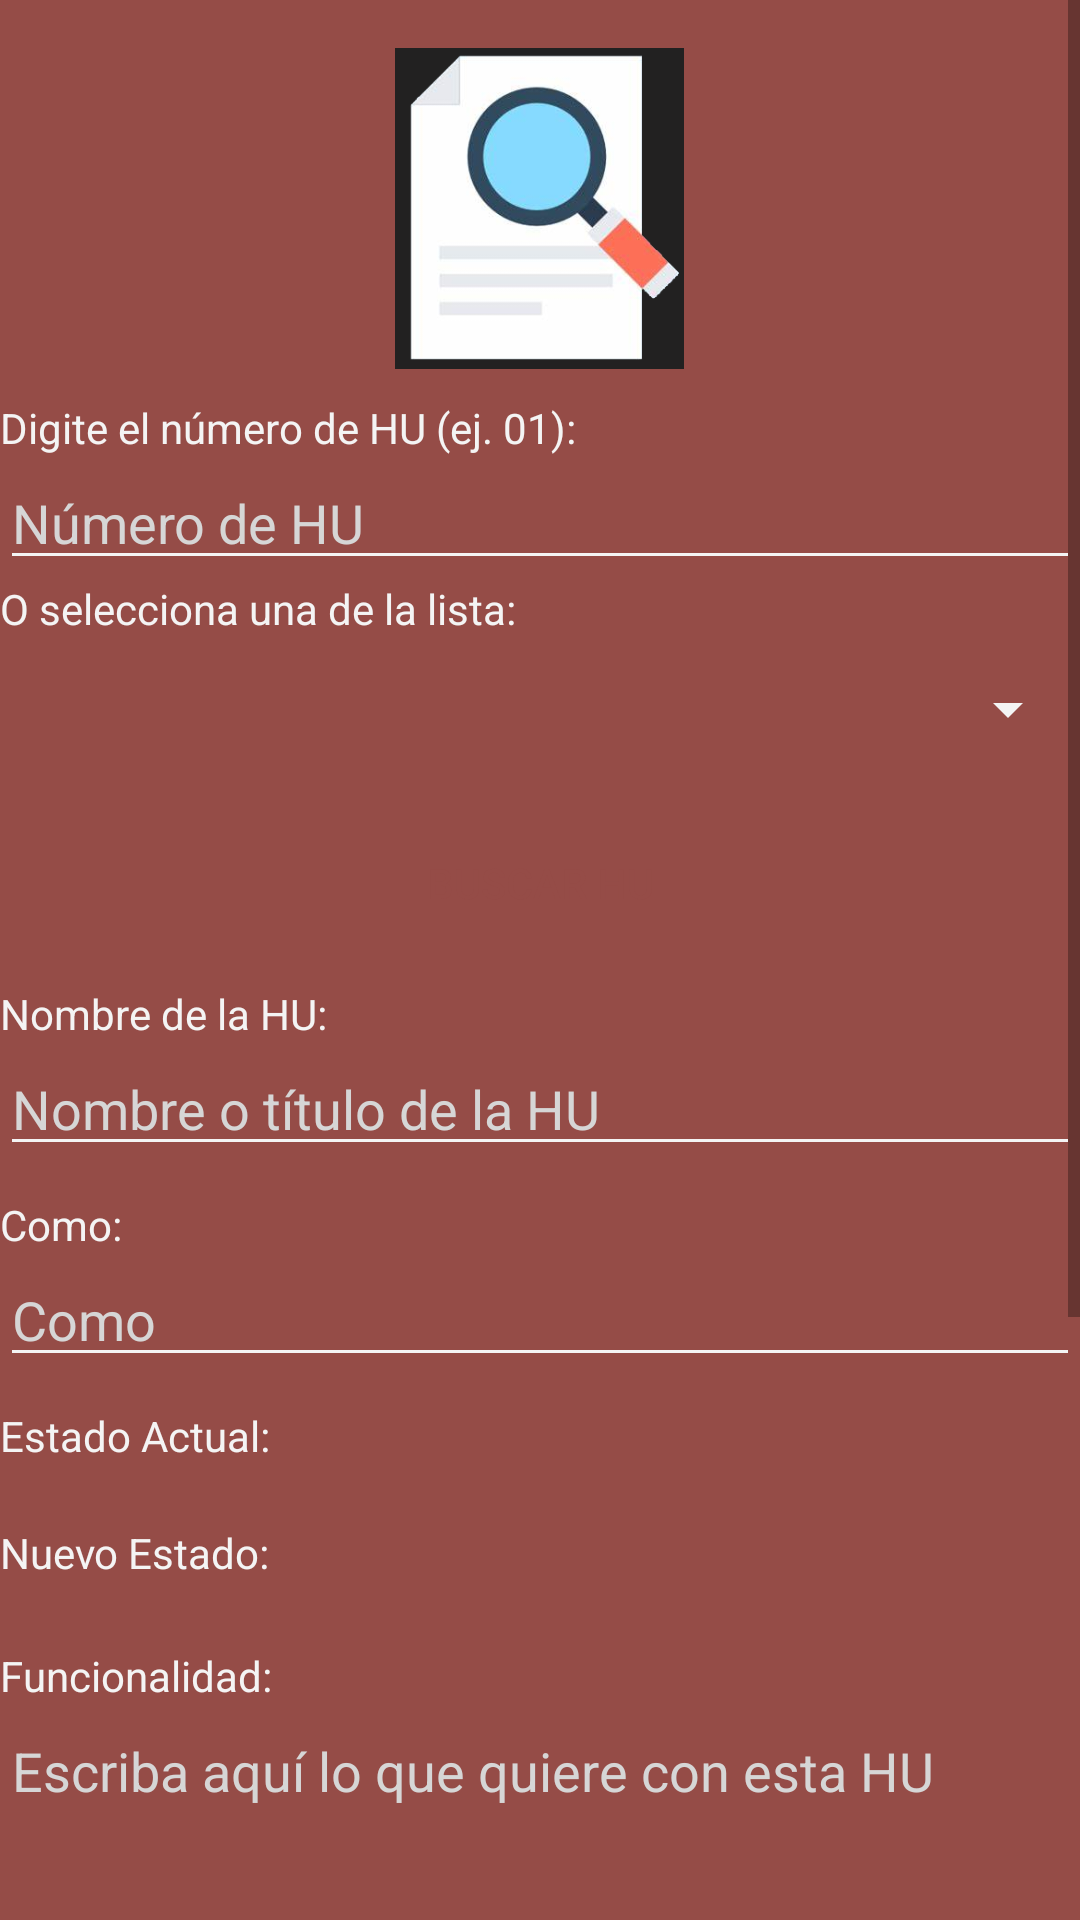

Icons on this 1080 x 1920 Android screen, each with the point to tap as (x,y):
busqueda: (539,208)
